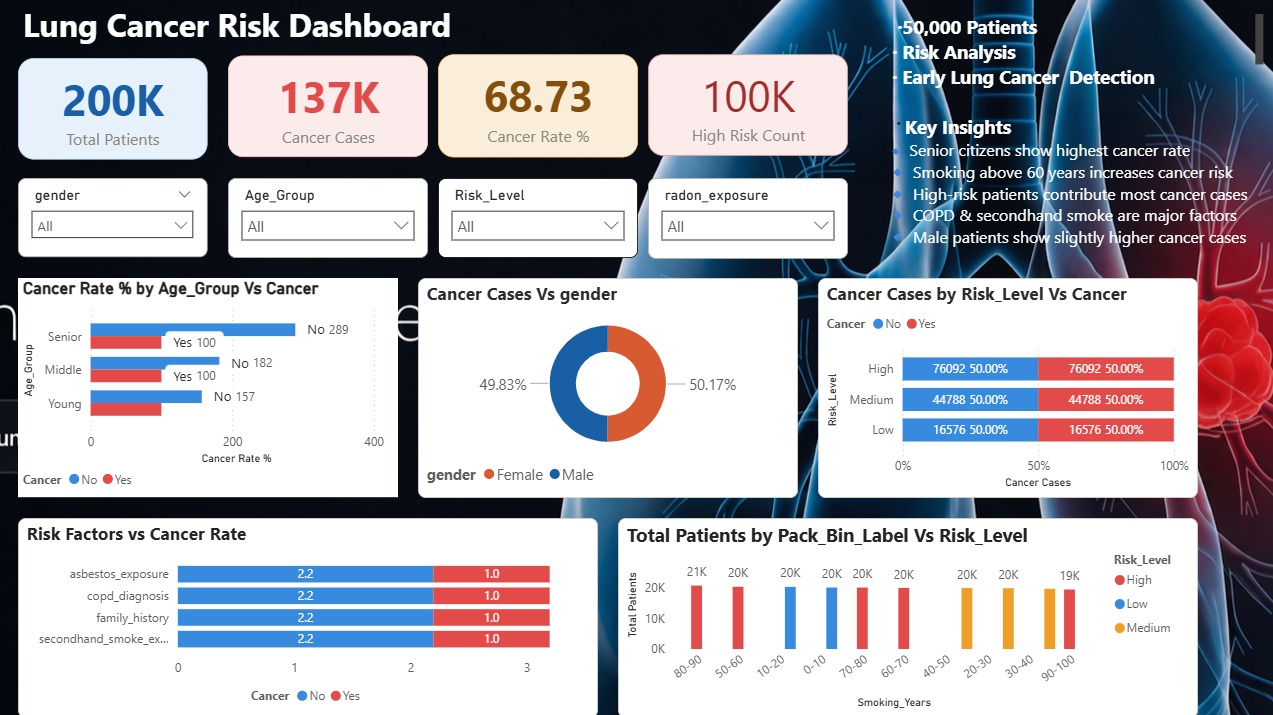

Layout of this report page (visuals, bound fields, positions):
{"tool":"powerbi","page":{"name":"Page 1","canvas":[1280,720],"ordinal":0},"visuals":[{"type":"slicer","fields":{"Values":["lung_cancer_dataset.gender"]},"box":[20.6,179.8,189.4,79.6],"z":0},{"type":"slicer","fields":{"Values":["lung_cancer_dataset.Age_Group"]},"box":[230,180,200,80],"z":1000},{"type":"slicer","fields":{"Values":["lung_cancer_dataset.Risk_Level"]},"box":[440,180,200,80],"z":2000},{"type":"slicer","fields":{"Values":["lung_cancer_dataset.radon_exposure"]},"box":[650,180,200,81],"z":3000},{"type":"card","fields":{"Values":["lung_cancer_dataset.Total Patients"]},"box":[20,80,220,90],"z":4000},{"type":"card","fields":{"Values":["lung_cancer_dataset.Cancer Cases"]},"box":[250,80,220,90],"z":5000},{"type":"card","fields":{"Values":["lung_cancer_dataset.High Risk Count"]},"box":[710,80,220,90],"z":6000},{"type":"card","fields":{"Values":["lung_cancer_dataset.Cancer Rate %"]},"box":[480,80,220,90],"z":7000},{"type":"donutChart","title":"Cancer Cases Vs gender","fields":{"Category":["lung_cancer_dataset.gender"],"Y":["lung_cancer_dataset.Cancer Cases"]},"box":[420,280,380,220],"z":8000},{"type":"hundredPercentStackedBarChart","title":"Cancer Cases by Risk_Level Vs Cancer","fields":{"Category":["lung_cancer_dataset.Risk_Level"],"Y":["lung_cancer_dataset.Cancer Cases"],"Series":["lung_cancer_dataset.Cancer"]},"box":[820.6,280,380,220],"z":9000},{"type":"clusteredBarChart","title":"Cancer Rate % by Age_Group Vs Cancer","fields":{"Category":["lung_cancer_dataset.Age_Group"],"Y":["lung_cancer_dataset.Cancer Rate %"],"Series":["lung_cancer_dataset.Cancer"]},"box":[20.6,279.9,380.1,219.6],"z":10000},{"type":"barChart","title":"Risk Factors vs Cancer Rate","fields":{"Category":["lung_cancer_dataset.Exposure Type"],"Y":["lung_cancer_dataset.Cancer Rate"],"Series":["lung_cancer_dataset.Cancer"]},"box":[20.6,520,580,200],"z":11000},{"type":"clusteredColumnChart","title":"Total Patients by Pack_Bin_Label Vs Risk_Level","fields":{"Category":["lung_cancer_dataset.Pack_Bin_Label"],"Y":["lung_cancer_dataset.Total Patients"],"Series":["lung_cancer_dataset.Risk_Level"]},"box":[620,520,580,200],"z":12000},{"type":"shape","box":[0,0,1280.3,60.4],"z":13000},{"type":"textbox","box":[508.6,5.7,385.7,48.6],"z":14000},{"type":"textbox","box":[20,31.4,600,28.6],"z":15000},{"type":"textbox","box":[1010,20,250,40],"z":16000}]}

Visuals, with their boxes in screenshot pixels (x1, y1, x2, y2), scaled from the page's 1280x720 canvas onto the 1273x715 screenshot:
slicer - lung_cancer_dataset.gender: {"x1": 20, "y1": 179, "x2": 209, "y2": 258}
slicer - lung_cancer_dataset.Age_Group: {"x1": 229, "y1": 179, "x2": 428, "y2": 258}
slicer - lung_cancer_dataset.Risk_Level: {"x1": 438, "y1": 179, "x2": 636, "y2": 258}
slicer - lung_cancer_dataset.radon_exposure: {"x1": 646, "y1": 179, "x2": 845, "y2": 259}
card - lung_cancer_dataset.Total Patients: {"x1": 20, "y1": 79, "x2": 239, "y2": 169}
card - lung_cancer_dataset.Cancer Cases: {"x1": 249, "y1": 79, "x2": 467, "y2": 169}
card - lung_cancer_dataset.High Risk Count: {"x1": 706, "y1": 79, "x2": 925, "y2": 169}
card - lung_cancer_dataset.Cancer Rate %: {"x1": 477, "y1": 79, "x2": 696, "y2": 169}
"Cancer Cases Vs gender" donutChart: {"x1": 418, "y1": 278, "x2": 796, "y2": 497}
"Cancer Cases by Risk_Level Vs Cancer" hundredPercentStackedBarChart: {"x1": 816, "y1": 278, "x2": 1194, "y2": 497}
"Cancer Rate % by Age_Group Vs Cancer" clusteredBarChart: {"x1": 20, "y1": 278, "x2": 399, "y2": 496}
"Risk Factors vs Cancer Rate" barChart: {"x1": 20, "y1": 516, "x2": 597, "y2": 714}
"Total Patients by Pack_Bin_Label Vs Risk_Level" clusteredColumnChart: {"x1": 617, "y1": 516, "x2": 1193, "y2": 714}
shape: {"x1": 0, "y1": 0, "x2": 1272, "y2": 60}
textbox: {"x1": 506, "y1": 6, "x2": 889, "y2": 54}
textbox: {"x1": 20, "y1": 31, "x2": 617, "y2": 60}
textbox: {"x1": 1004, "y1": 20, "x2": 1253, "y2": 60}
